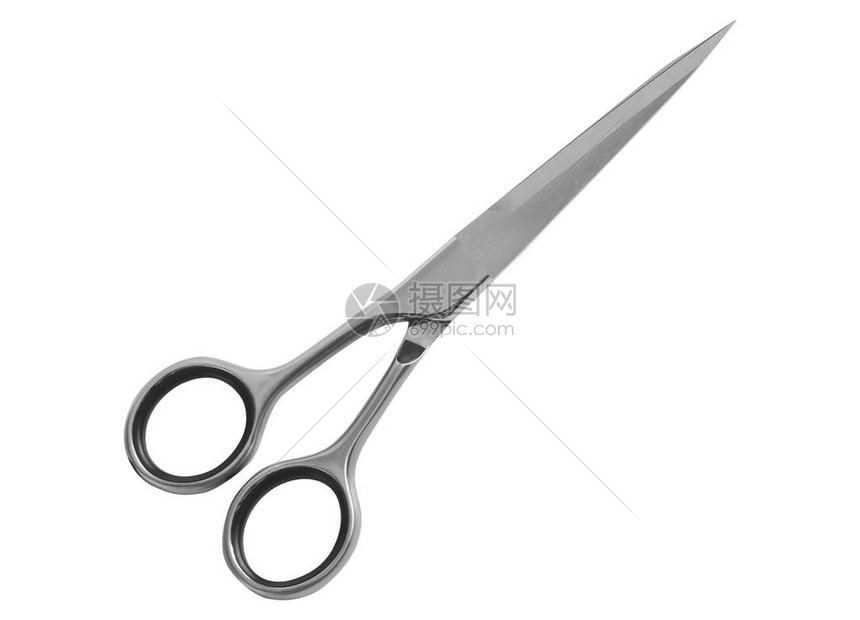scissors: (120, 18, 741, 605)
